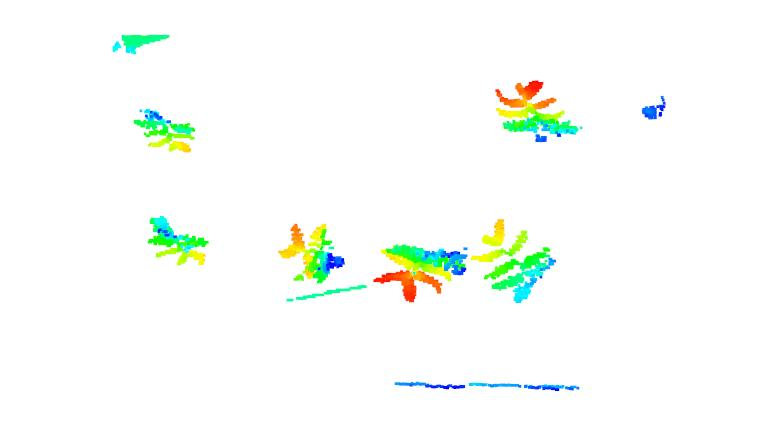chickpea: (472, 217, 559, 304), (373, 243, 468, 302), (492, 80, 580, 141), (276, 223, 347, 285), (144, 215, 209, 267), (133, 107, 196, 154)
